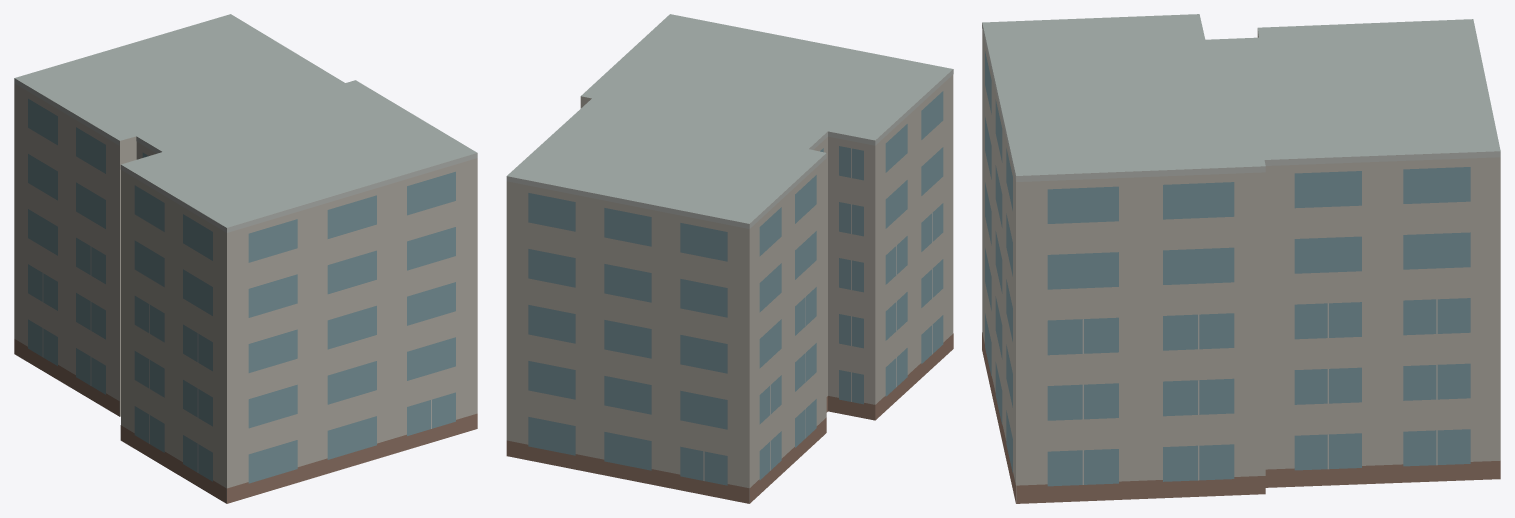
Rendered from survey-upis-32664171.glb.
The picture shows the model from 3 angles, left to right: view 1: azimuth 30°, elevation 25°; view 2: azimuth 150°, elevation 25°; view 3: azimuth 270°, elevation 25°; orthographic projection. The views are drawn at different scales.
Visible parts, largest first — view 1: survey-upis-32664171.tmp; view 2: survey-upis-32664171.tmp; view 3: survey-upis-32664171.tmp.
Boxes of the visible parts, left/top/right/bottom form: survey-upis-32664171.tmp: left=14, top=14, right=477, bottom=503; survey-upis-32664171.tmp: left=506, top=14, right=953, bottom=503; survey-upis-32664171.tmp: left=982, top=14, right=1500, bottom=503.
Size of the model in its own units: 14 by 13.2 by 18.93.
